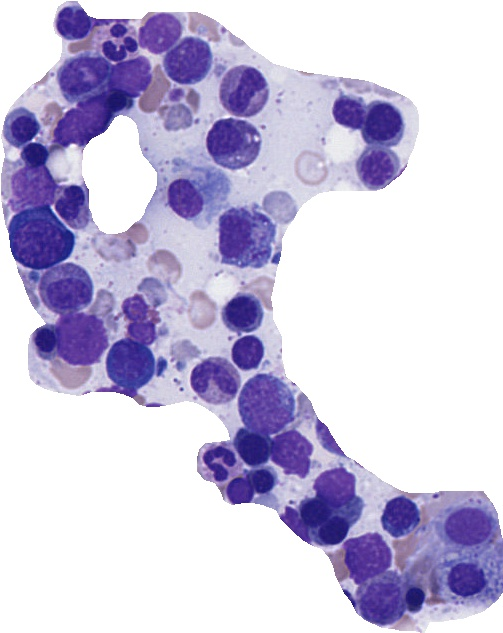objectness: (195, 437, 245, 487), (92, 15, 142, 65), (203, 115, 253, 165), (42, 268, 92, 318), (219, 63, 269, 113), (47, 178, 97, 228), (188, 348, 238, 398), (55, 49, 105, 99), (239, 378, 289, 428), (58, 92, 108, 142), (54, 311, 104, 361), (443, 501, 493, 551), (269, 427, 319, 477), (309, 458, 359, 508), (161, 34, 211, 84), (214, 466, 264, 516), (162, 172, 212, 222), (342, 530, 392, 580), (105, 337, 155, 387), (118, 304, 168, 354), (134, 9, 184, 59), (112, 281, 162, 331), (104, 51, 154, 101), (220, 211, 270, 261), (5, 159, 55, 209), (440, 553, 490, 603), (321, 87, 371, 137), (311, 507, 361, 557), (390, 573, 440, 623), (359, 100, 409, 150), (227, 425, 277, 475), (239, 453, 289, 503), (290, 486, 340, 536), (375, 489, 425, 539), (10, 217, 60, 267), (217, 288, 267, 338), (11, 129, 61, 179), (352, 142, 402, 192), (19, 314, 69, 364), (0, 104, 48, 154)
